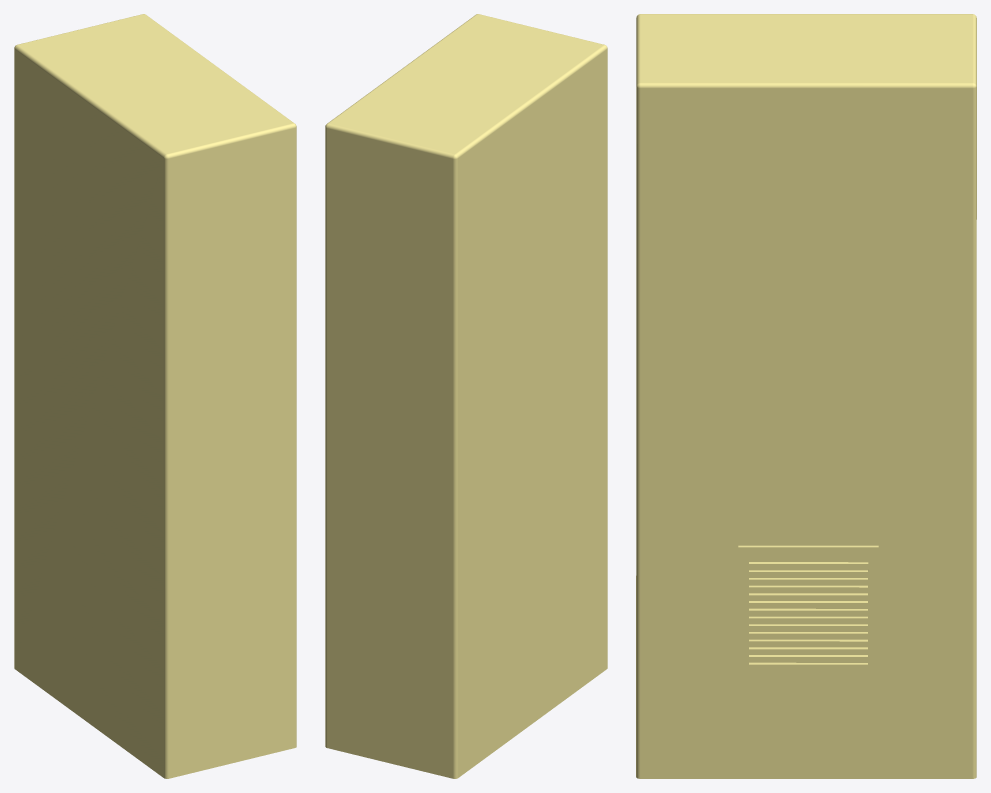
3 views of the same model, side by side, from view 1: azimuth 30°, elevation 25°; view 2: azimuth 150°, elevation 25°; view 3: azimuth 270°, elevation 25° (orthographic). The views are drawn at different scales.
Visible parts, largest first — view 1: 0C6E641F3DC18749666DF3C59C03E7384C05AFCA|:|56E04FEF2A72_7f73; view 2: 0C6E641F3DC18749666DF3C59C03E7384C05AFCA|:|56E04FEF2A72_7f73; view 3: 0C6E641F3DC18749666DF3C59C03E7384C05AFCA|:|56E04FEF2A72_7f73.
Part boxes in pixels (x1,y1,x2,y2): 0C6E641F3DC18749666DF3C59C03E7384C05AFCA|:|56E04FEF2A72_7f73: (14,14,296,778); 0C6E641F3DC18749666DF3C59C03E7384C05AFCA|:|56E04FEF2A72_7f73: (325,14,607,778); 0C6E641F3DC18749666DF3C59C03E7384C05AFCA|:|56E04FEF2A72_7f73: (636,14,976,778).
Bounding box in the file's own units: 41 × 180 × 80.06.
